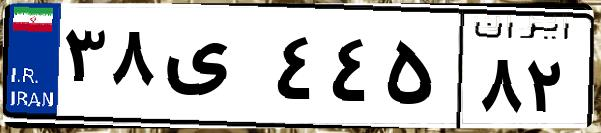2: (525, 38, 570, 115)
3: (57, 26, 110, 100)
4: (270, 28, 330, 110), (330, 28, 385, 110)
5: (385, 28, 445, 110)
8: (475, 38, 525, 113), (110, 28, 158, 98)
ی: (158, 20, 270, 120)
